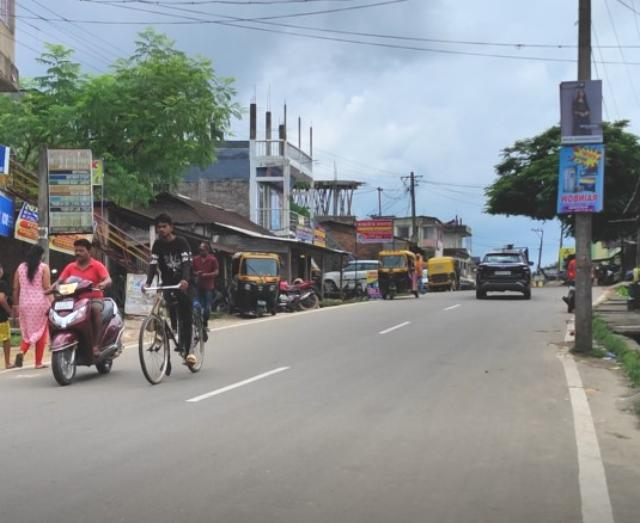licensePlate: (51, 300, 73, 311)
motorcycle: (40, 235, 123, 386)
withoutHelmet: (67, 238, 96, 263)
